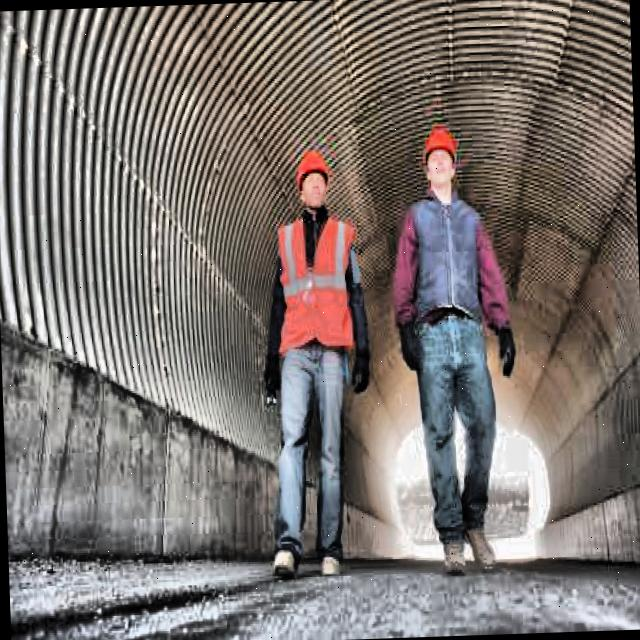helmet: (421, 120, 461, 194), (294, 146, 335, 216)
